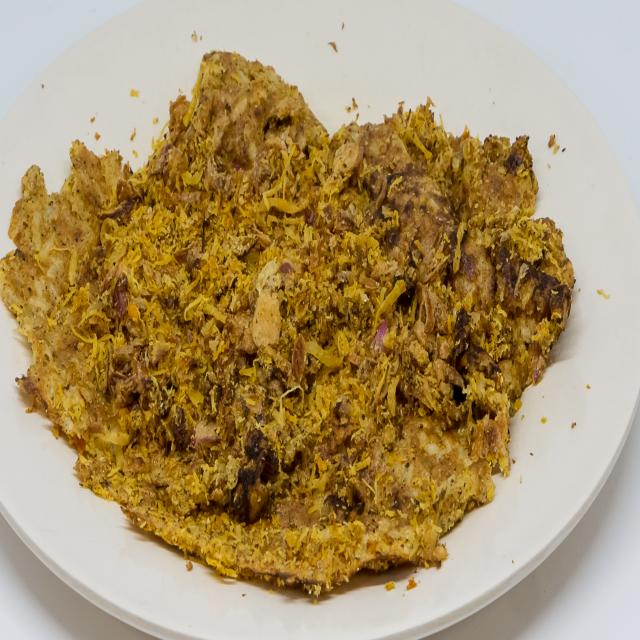Kerak-Telor: (10, 36, 582, 612)
